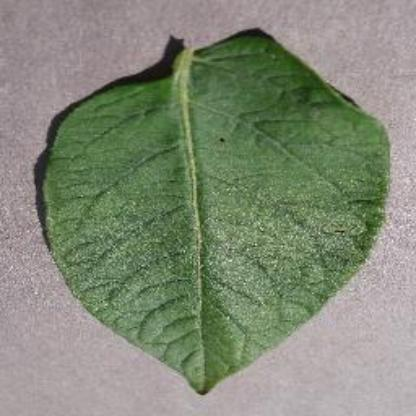Healthy-plant: (42, 28, 390, 394)
